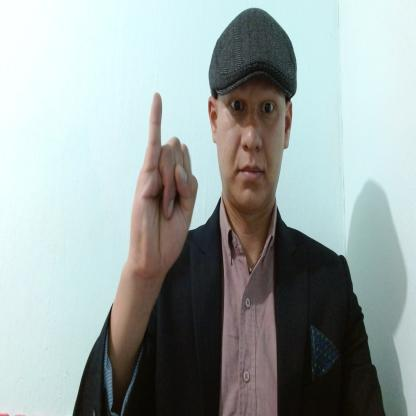I: (128, 90, 197, 274)
